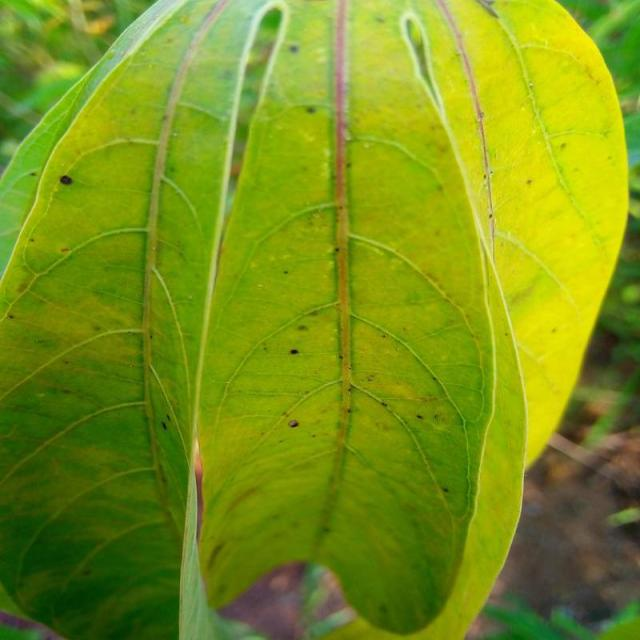cassava leaf: (1, 0, 630, 638)
